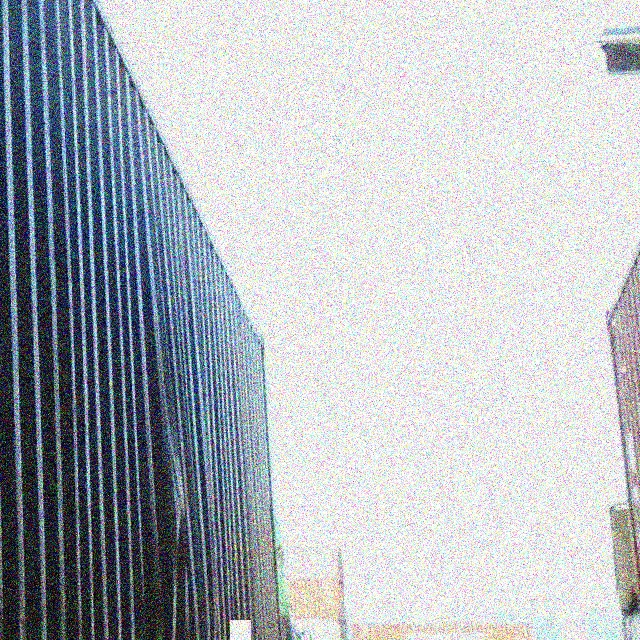Dent: (152, 374, 188, 640)
